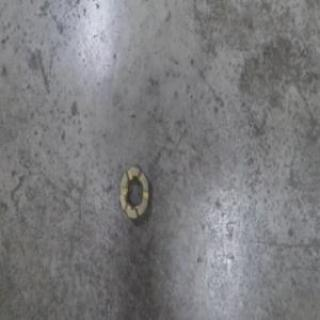Nuttrack_idkeyframe: (118, 163, 152, 224)
